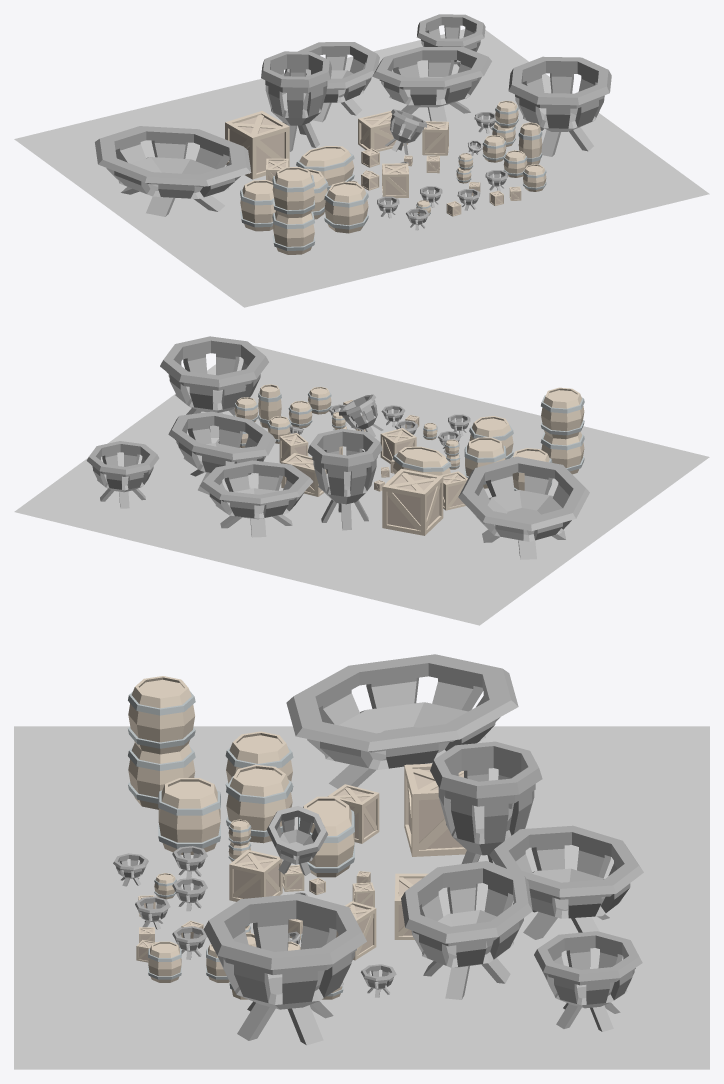
File: scene_dungeon.glb
The picture shows the model from 3 angles, top to bottom: view 1: azimuth 30°, elevation 25°; view 2: azimuth 150°, elevation 25°; view 3: azimuth 270°, elevation 25°; orthographic projection. The views are drawn at different scales.
Visible parts, largest first — view 1: Plane, object1.038, object1.029, object1.024, object1.025, object1.023, object1.036, object1.013, object1.030, object1.041, object1.039, object1.028 (+11 smaller); view 2: Plane, object1.038, object1.029, object1.023, object1.025, object1.024, object1.036, object1.030, object1.041, object1.028, object1.040, object1.035 (+11 smaller); view 3: Plane, object1.038, object1.029, object1.024, object1.023, object1.025, object1.030, object1.041, object1.013, object1.036, object1.035, object1.028 (+14 smaller).
Part boxes in pixels (x1,y1,x2,y2): Plane: (14, 29, 709, 307); object1.038: (95, 126, 251, 216); object1.029: (508, 56, 611, 156); object1.024: (372, 47, 491, 121); object1.025: (261, 51, 331, 151); object1.023: (284, 42, 379, 122); object1.036: (225, 111, 289, 179); object1.013: (324, 181, 368, 233); object1.030: (417, 14, 485, 66); object1.041: (272, 167, 314, 218); object1.039: (240, 180, 275, 231); object1.028: (296, 146, 354, 190); Plane: (14, 345, 709, 625); object1.038: (458, 456, 589, 559); object1.029: (160, 336, 268, 437); object1.023: (199, 460, 313, 537); object1.025: (307, 428, 382, 530); object1.024: (168, 411, 276, 494); object1.036: (382, 468, 443, 535); object1.030: (86, 441, 159, 508); object1.041: (541, 387, 584, 439); object1.028: (393, 446, 451, 475); object1.040: (540, 431, 584, 474); object1.035: (464, 437, 506, 488); Plane: (14, 726, 709, 1069); object1.038: (286, 654, 518, 788); object1.029: (203, 893, 366, 1045); object1.024: (401, 861, 532, 999); object1.023: (489, 825, 643, 939); object1.025: (430, 741, 542, 863); object1.030: (534, 931, 642, 1031); object1.041: (128, 676, 195, 754); object1.013: (158, 778, 220, 854); object1.036: (404, 763, 466, 856); object1.035: (226, 764, 292, 843); object1.028: (298, 796, 354, 877).
Bounding box in the file's own units: 164 × 25.85 × 139.
